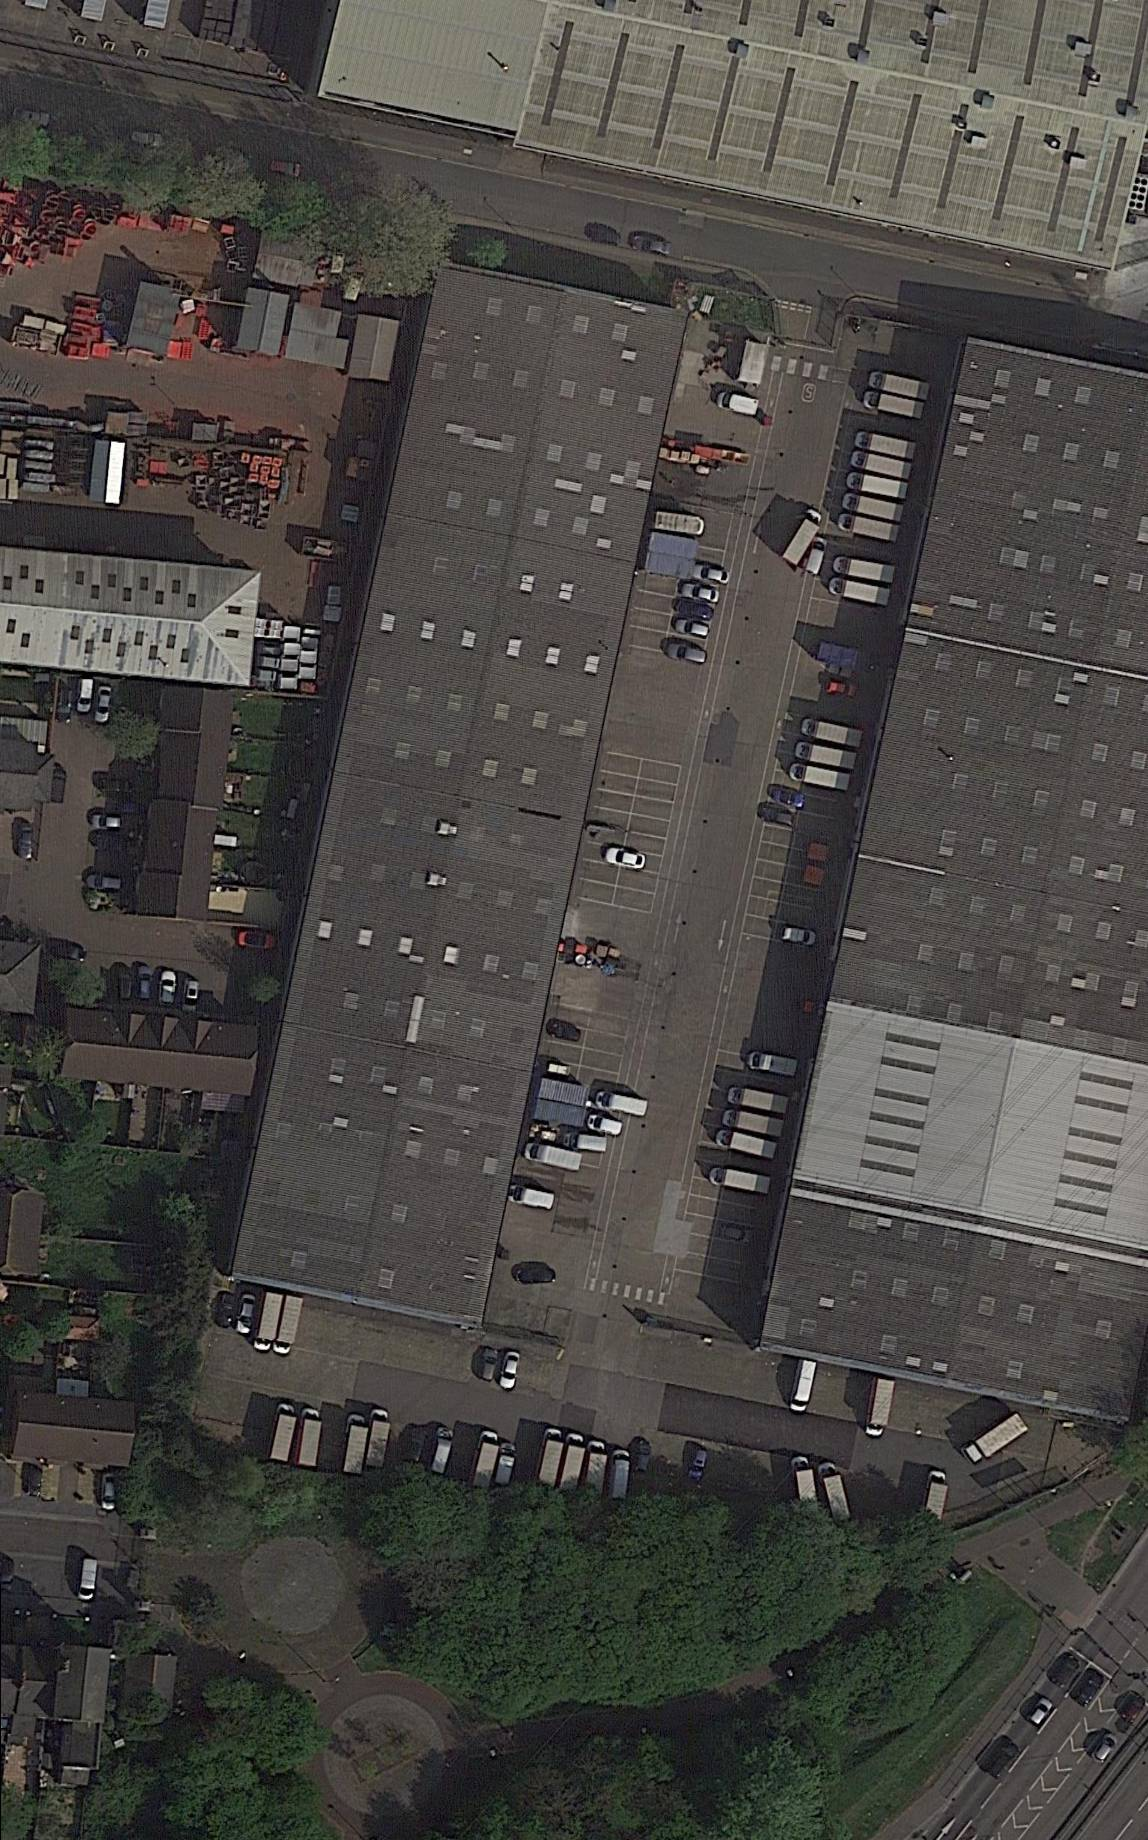large vehicle: (959, 1410, 1030, 1468), (778, 504, 828, 568), (530, 1425, 568, 1495), (816, 1458, 854, 1527), (465, 1427, 503, 1495), (555, 1430, 590, 1500), (270, 1293, 306, 1360), (265, 1400, 301, 1467), (847, 448, 914, 483), (713, 1127, 780, 1162), (867, 368, 933, 403), (249, 1291, 285, 1355), (798, 717, 865, 751), (706, 1163, 773, 1197), (840, 490, 906, 524), (292, 1405, 325, 1472), (339, 1410, 372, 1477), (861, 388, 926, 422), (835, 511, 901, 544), (827, 575, 892, 608), (792, 739, 859, 771), (725, 1084, 792, 1116), (786, 761, 852, 793), (831, 553, 897, 585), (852, 429, 918, 461), (865, 1376, 897, 1442), (789, 1455, 821, 1520), (719, 1108, 786, 1139), (844, 470, 910, 501), (919, 1466, 953, 1526), (364, 1405, 394, 1471), (581, 1439, 610, 1506), (786, 1358, 819, 1416), (743, 1047, 801, 1079), (426, 1423, 457, 1481), (650, 510, 708, 539), (605, 1446, 632, 1508), (491, 1441, 520, 1491), (714, 388, 761, 417)
small vehicle: (520, 1139, 585, 1174), (595, 1088, 650, 1121), (984, 1738, 1023, 1782), (506, 1181, 557, 1213), (1112, 1692, 1148, 1736), (1072, 1668, 1106, 1710), (1049, 1652, 1083, 1690), (8, 104, 54, 132), (803, 534, 831, 579), (603, 845, 649, 872), (629, 232, 675, 259), (498, 1347, 524, 1394), (585, 1111, 627, 1140), (679, 581, 724, 608), (234, 1291, 259, 1338), (1090, 1730, 1122, 1766), (690, 562, 734, 588), (673, 598, 717, 624), (665, 641, 709, 667), (76, 1556, 100, 1603), (755, 803, 798, 829), (403, 1425, 430, 1466), (1024, 1695, 1056, 1729), (214, 1289, 240, 1330), (125, 126, 167, 151), (768, 786, 808, 812), (476, 1344, 502, 1384), (87, 831, 132, 854), (563, 1131, 608, 1154), (155, 968, 180, 1009), (686, 1444, 711, 1485), (236, 929, 280, 952), (92, 684, 115, 727), (672, 616, 713, 640), (585, 224, 624, 249), (47, 941, 89, 964), (779, 923, 819, 947), (54, 686, 77, 726), (83, 872, 126, 893), (47, 767, 70, 805), (631, 1439, 654, 1477), (135, 963, 155, 1006), (73, 677, 95, 716), (266, 157, 303, 180), (180, 975, 201, 1015), (545, 1021, 583, 1043), (824, 677, 860, 700), (89, 811, 129, 831), (16, 822, 36, 862), (116, 965, 135, 1006), (514, 1268, 557, 1286), (95, 777, 137, 795), (100, 1472, 118, 1513), (25, 1465, 44, 1498)
